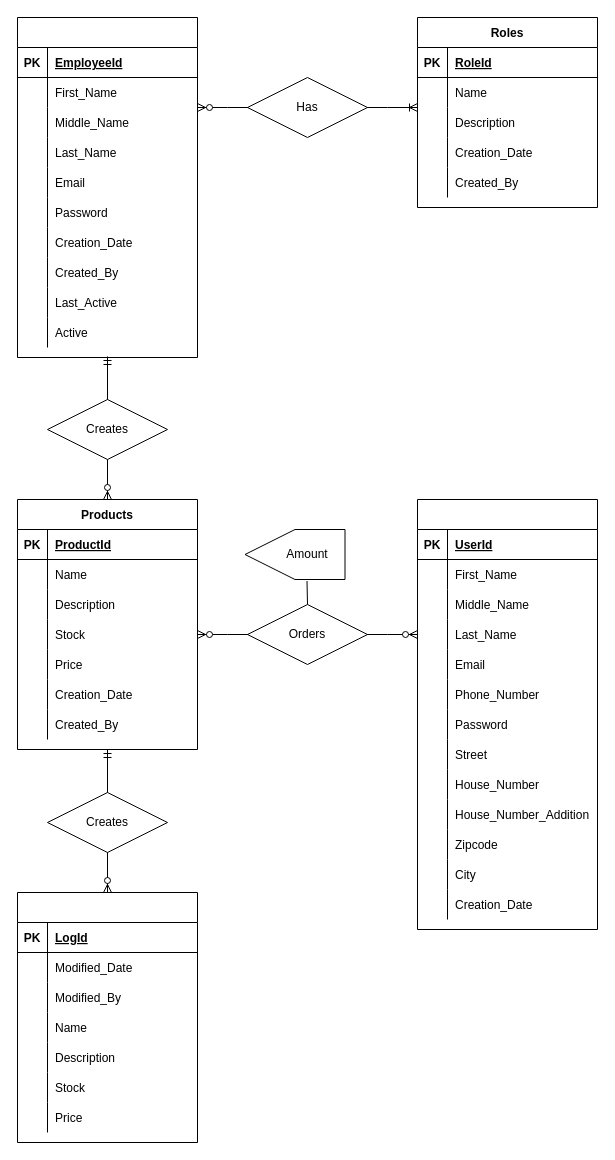
This 615x1160 diagram has some shape labels left out. Each missing label, with the box of its shape:
Employees: (16, 16, 198, 358)
ProductLogs: (16, 892, 198, 1142)
Users: (416, 498, 598, 930)
